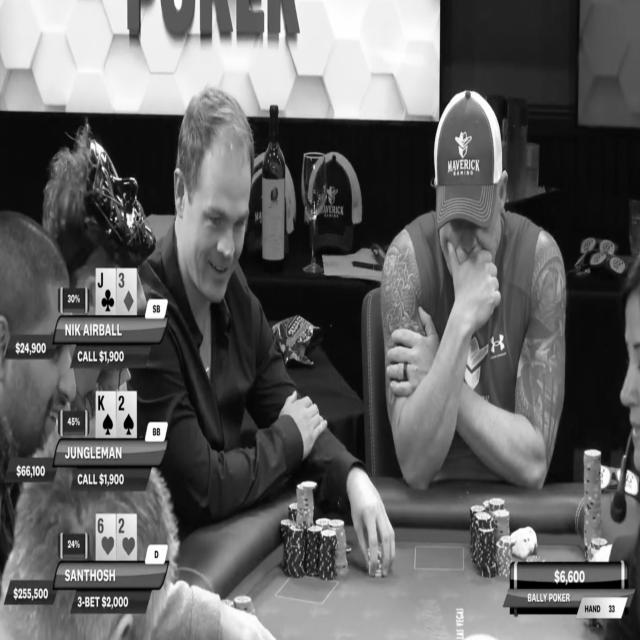2H: (116, 514, 138, 561)
2S: (116, 391, 137, 436)
3D: (115, 269, 137, 315)
6H: (96, 516, 116, 562)
JC: (96, 268, 116, 316)
KS: (95, 390, 116, 438)
